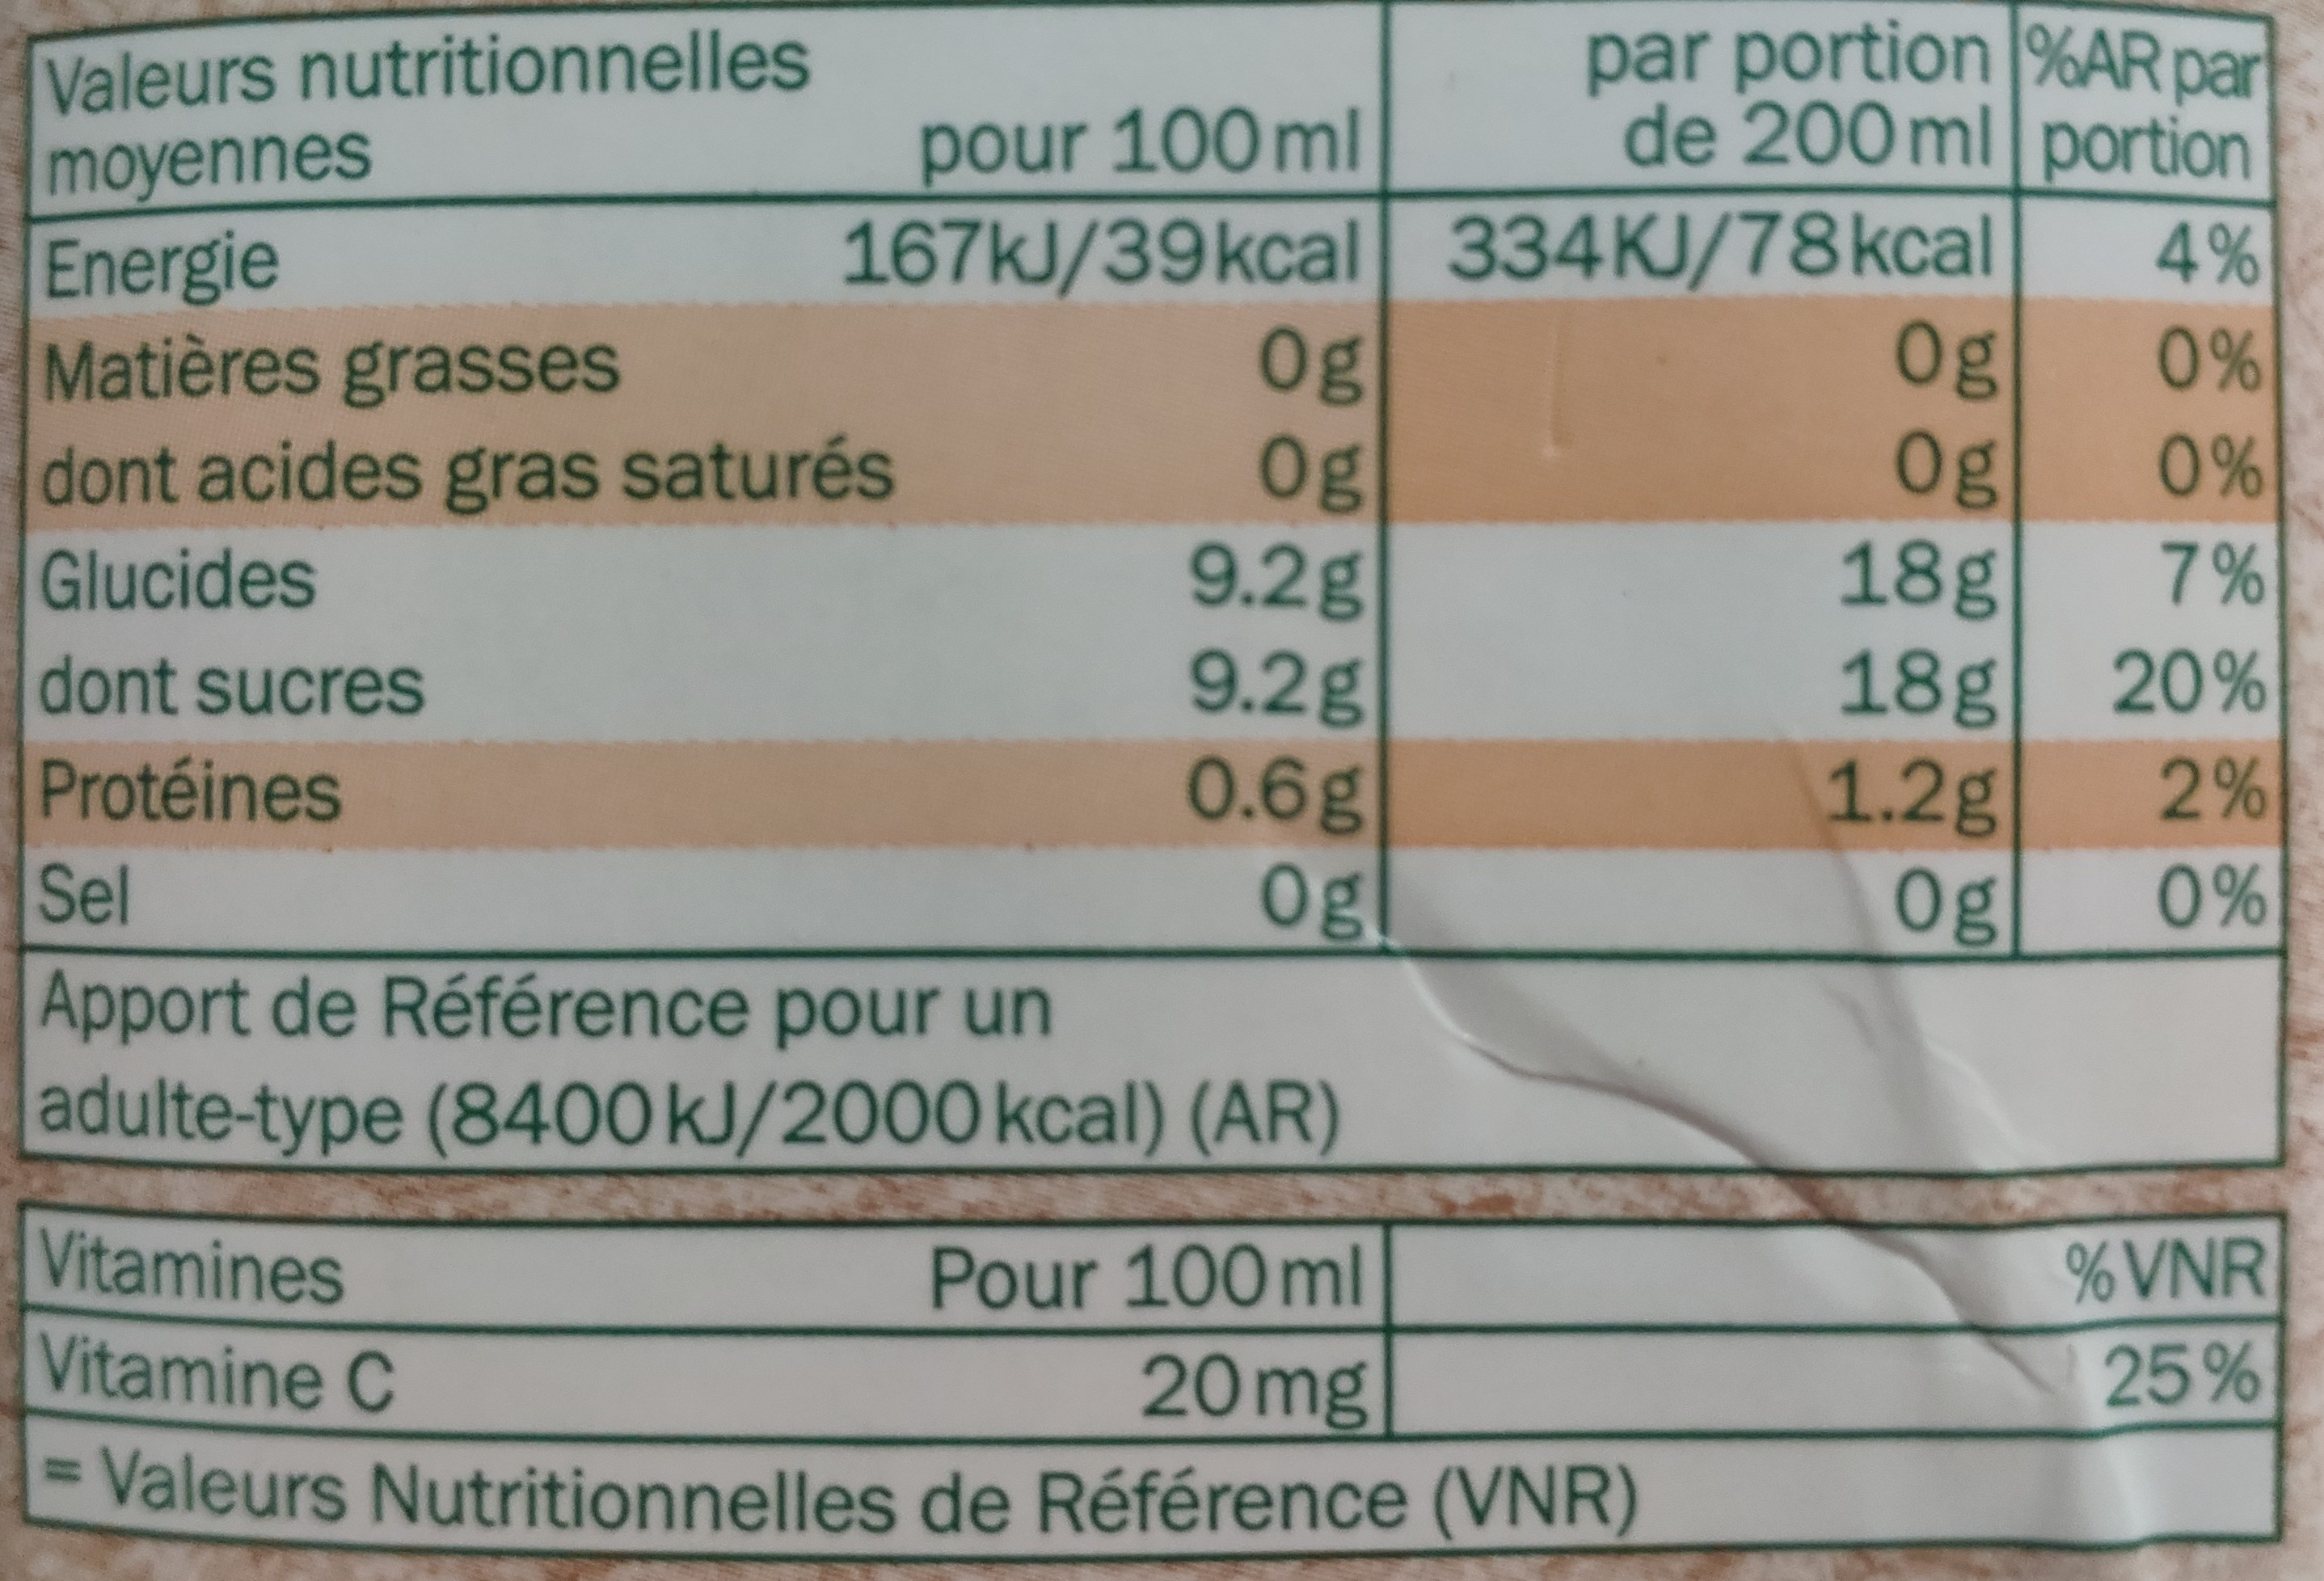column: (21, 34, 1376, 939), (1415, 23, 2008, 951), (2028, 16, 2273, 935)
table: (4, 0, 2320, 960)
